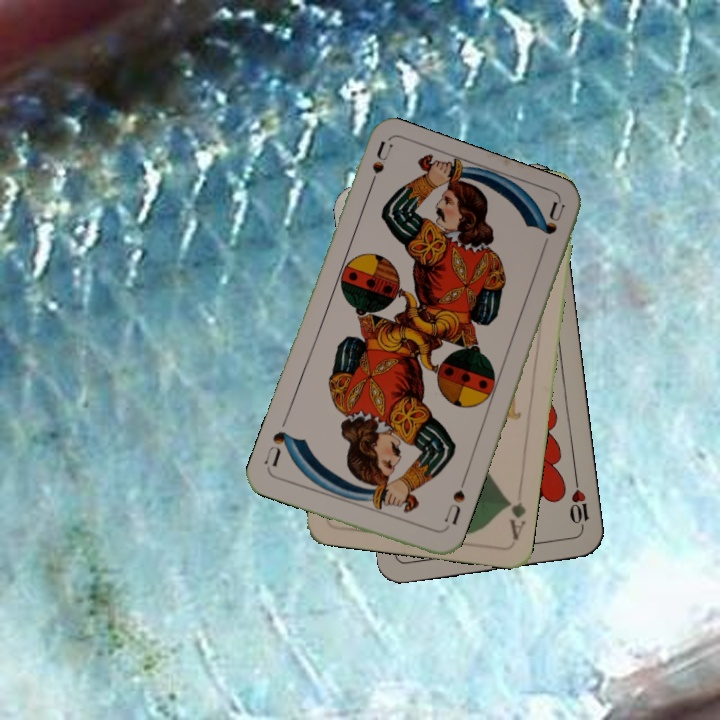GA: (502, 495, 528, 543)
H10: (565, 475, 591, 534)
SU: (363, 139, 395, 198), (437, 477, 468, 534)
